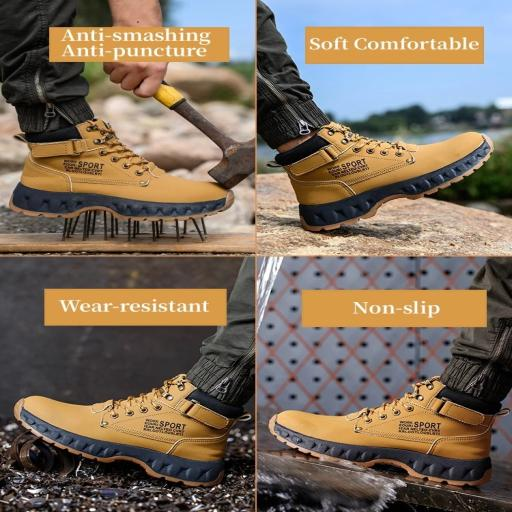safety_boots: (258, 121, 509, 241), (266, 372, 488, 493), (4, 375, 238, 489), (0, 128, 230, 235)
